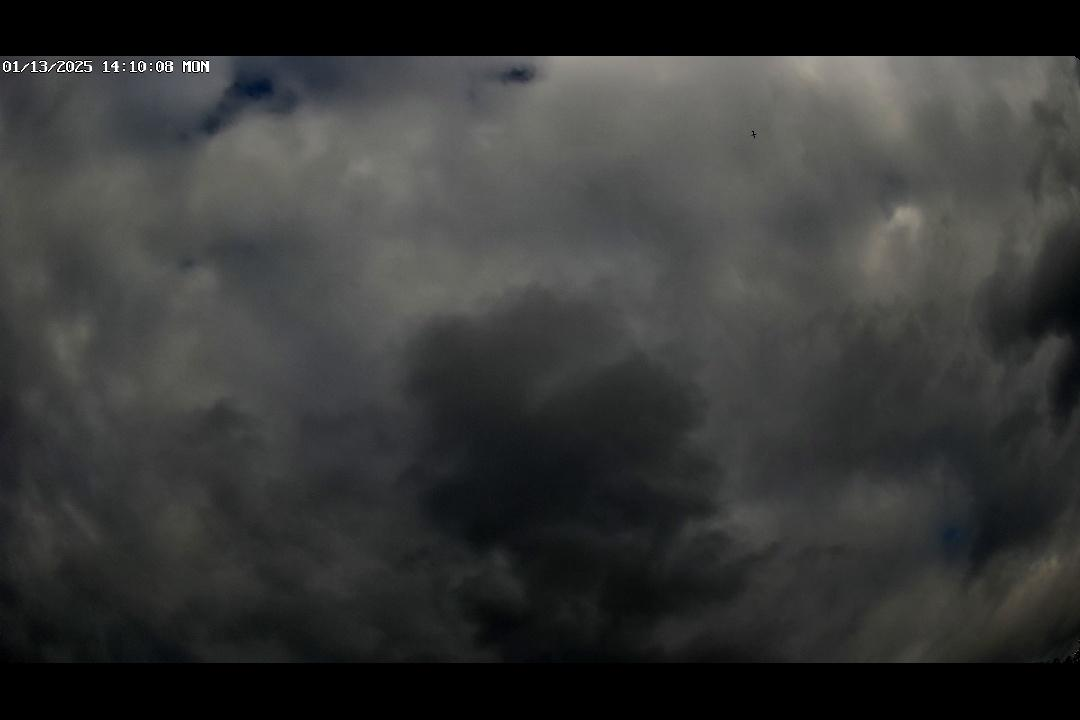Plane: (745, 122, 764, 144)
